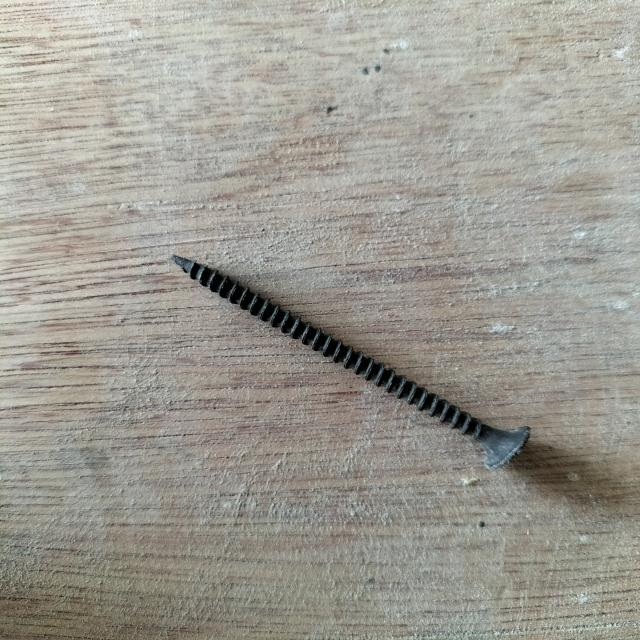screw: (171, 252, 533, 472)
